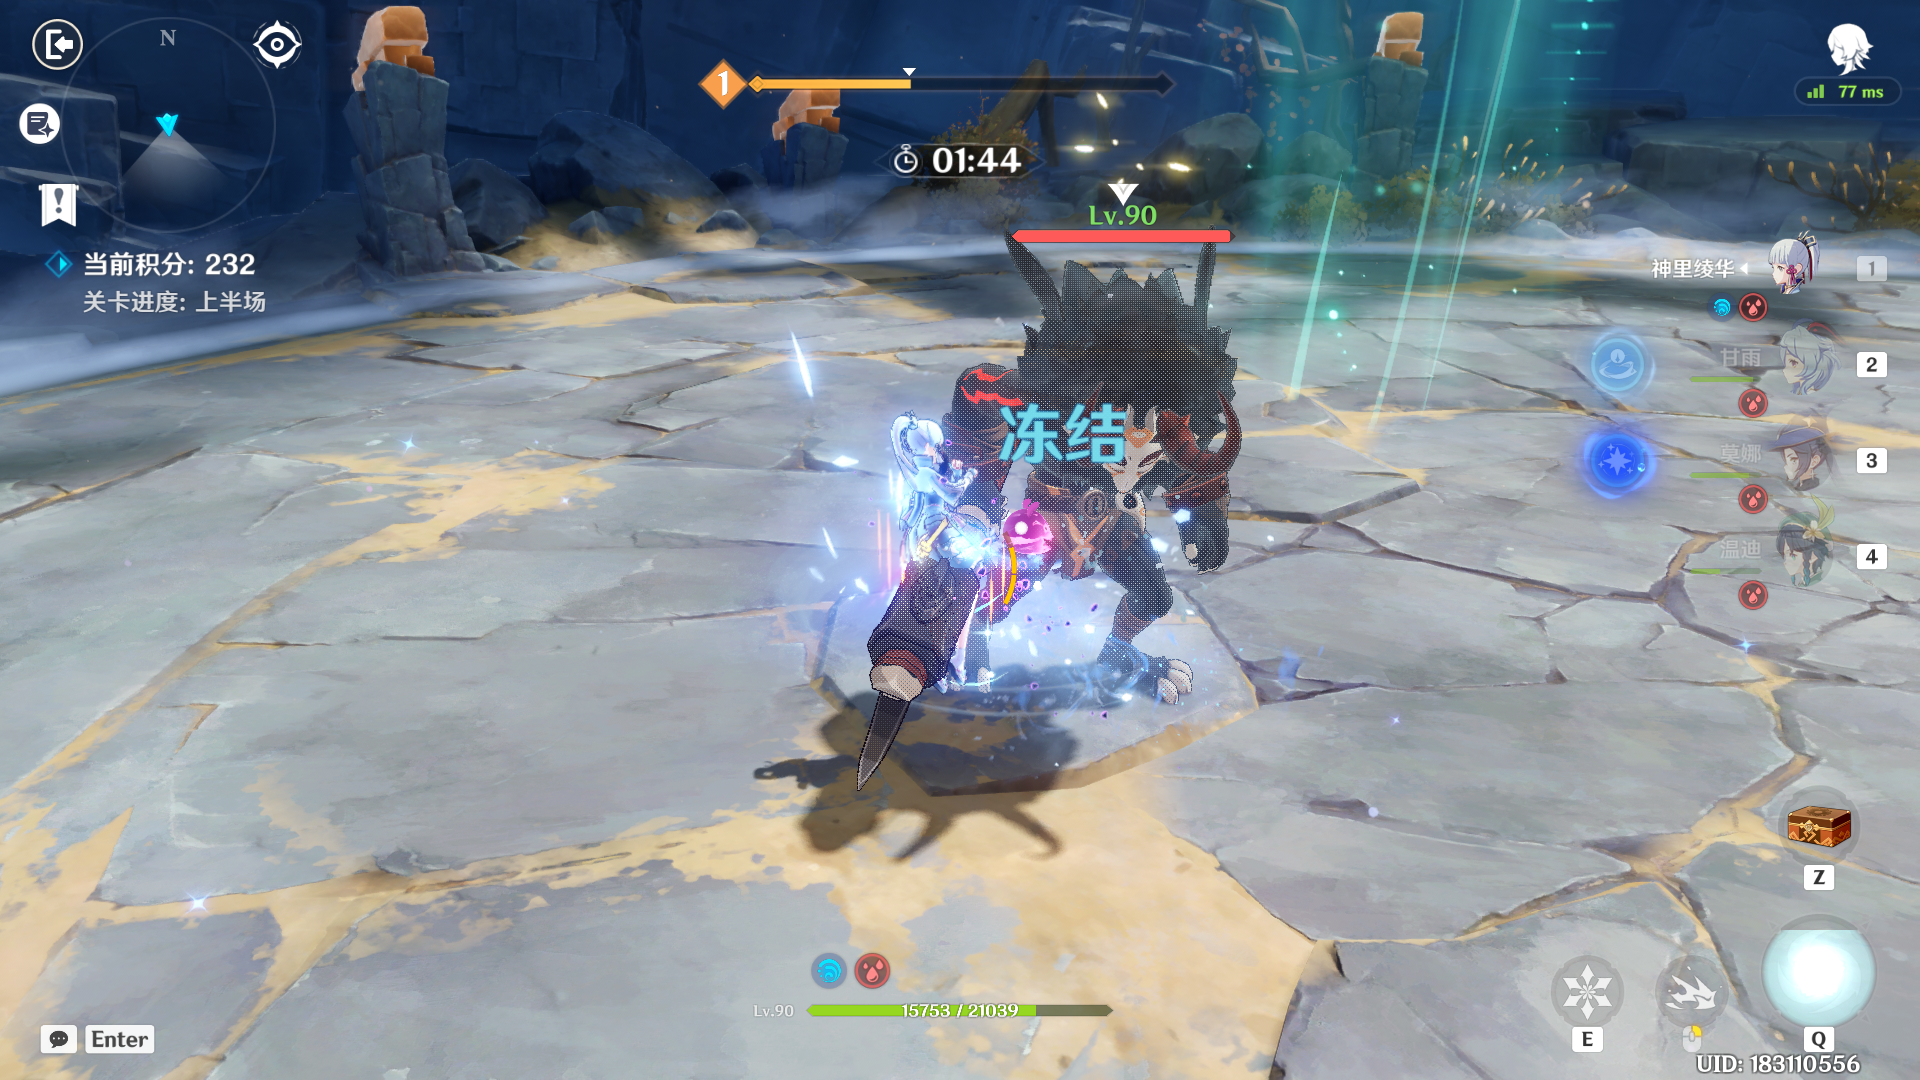bighili: (818, 212, 1216, 814)
